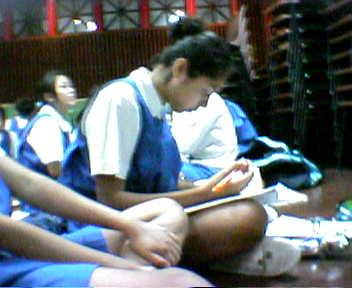person: (61, 21, 302, 288)
